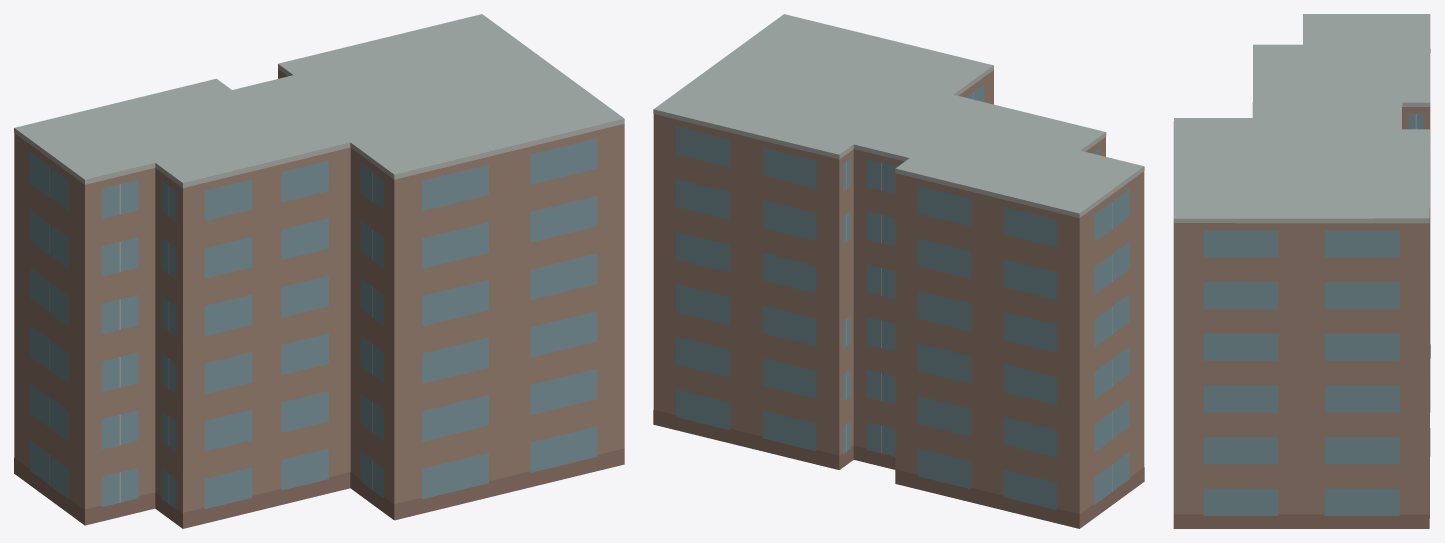
File: survey-upis-32873845.glb
3 renders of one model, left to right at view 1: azimuth 30°, elevation 25°; view 2: azimuth 150°, elevation 25°; view 3: azimuth 270°, elevation 25°, orthographic. The views are drawn at different scales.
Parts seen in each view (by area): view 1: survey-upis-32873845.tmp; view 2: survey-upis-32873845.tmp; view 3: survey-upis-32873845.tmp.
Part boxes in pixels (x1,y1,x2,y2): survey-upis-32873845.tmp: [14, 14, 624, 528]; survey-upis-32873845.tmp: [653, 14, 1144, 528]; survey-upis-32873845.tmp: [1173, 14, 1430, 528].
Bounding box in the file's own units: 23.87 × 16.85 × 12.67.
